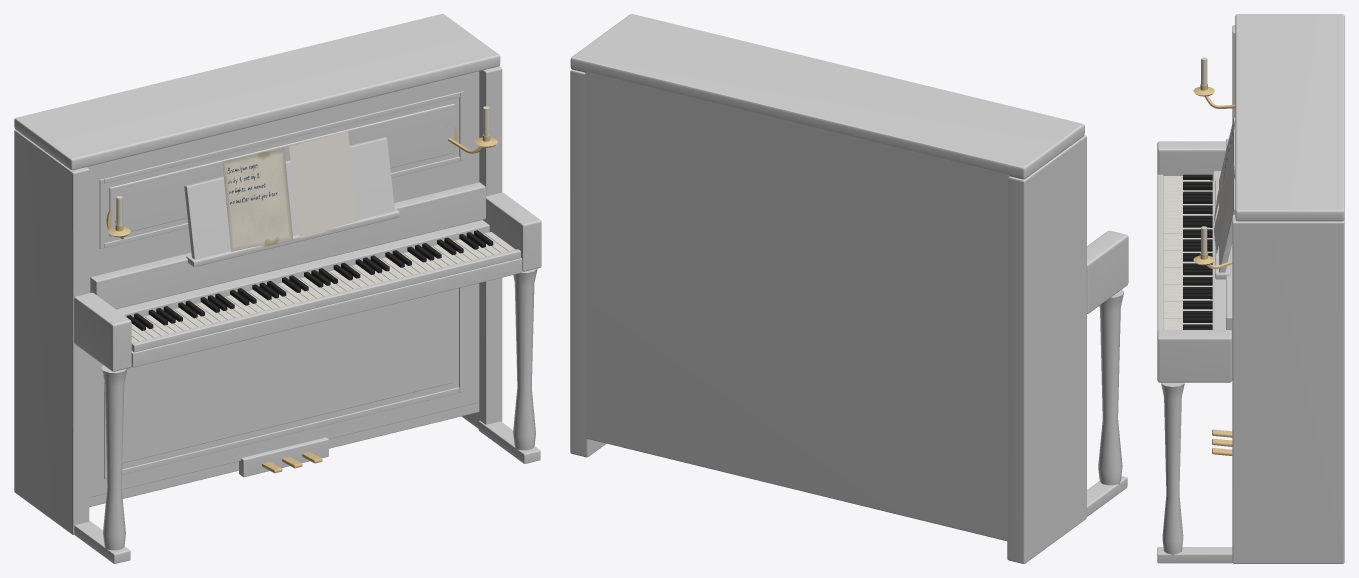
File: SM_Piano_Upright.fbx
3 renders of one model, left to right at view 1: azimuth 30°, elevation 25°; view 2: azimuth 150°, elevation 25°; view 3: azimuth 270°, elevation 25°, orthographic. The views are drawn at different scales.
Visible parts, largest first — view 1: SM_Piano_Upright_1; view 2: SM_Piano_Upright_1; view 3: SM_Piano_Upright_1.
Part boxes in pixels (x1=…): SM_Piano_Upright_1: x1=14, y1=14, x2=541, y2=563; SM_Piano_Upright_1: x1=570, y1=14, x2=1128, y2=563; SM_Piano_Upright_1: x1=1157, y1=14, x2=1344, y2=563.
Bounding box in the file's own units: 151 × 125 × 60.
